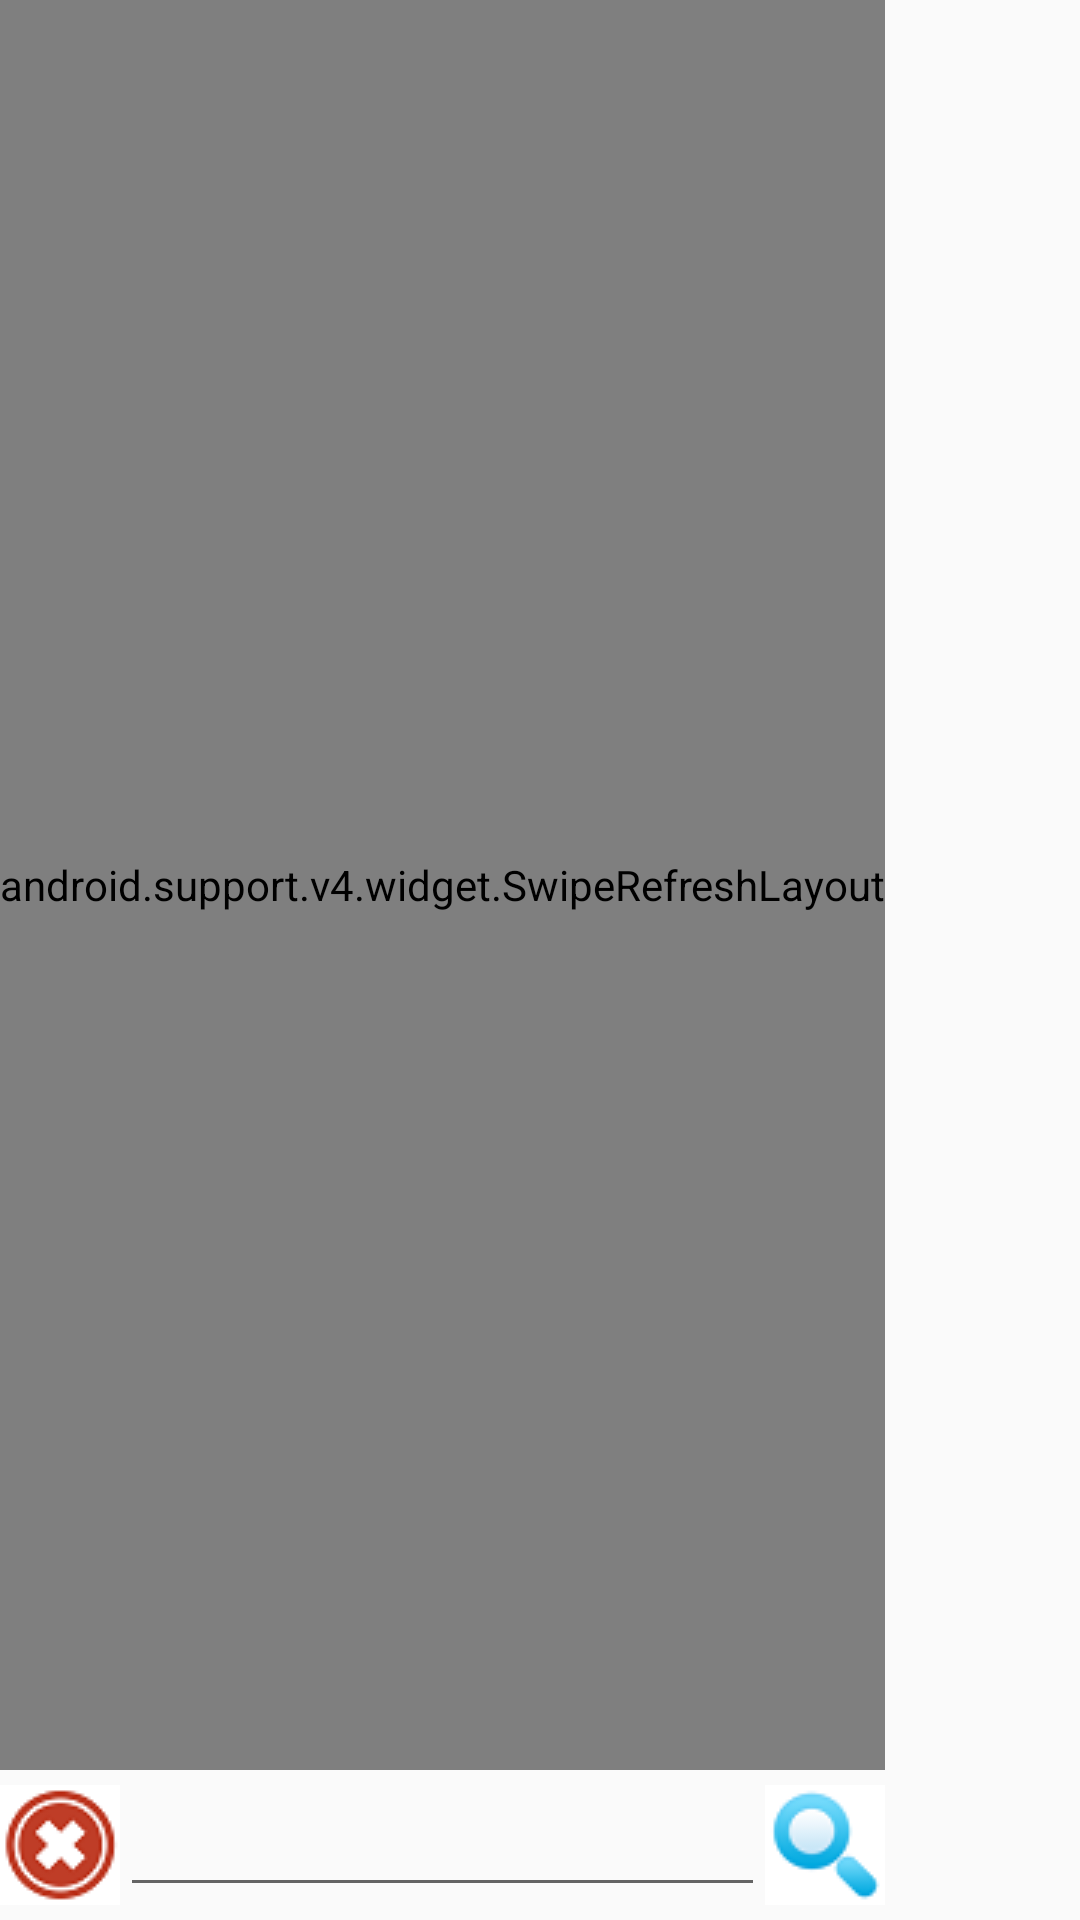

Locate icon controls on the screen. Image size 1080 x 1920, boxes as (x1, y1, x2, y2).
Reset: (5, 1790, 115, 1900)
Search Your Title: (773, 1792, 879, 1899)
